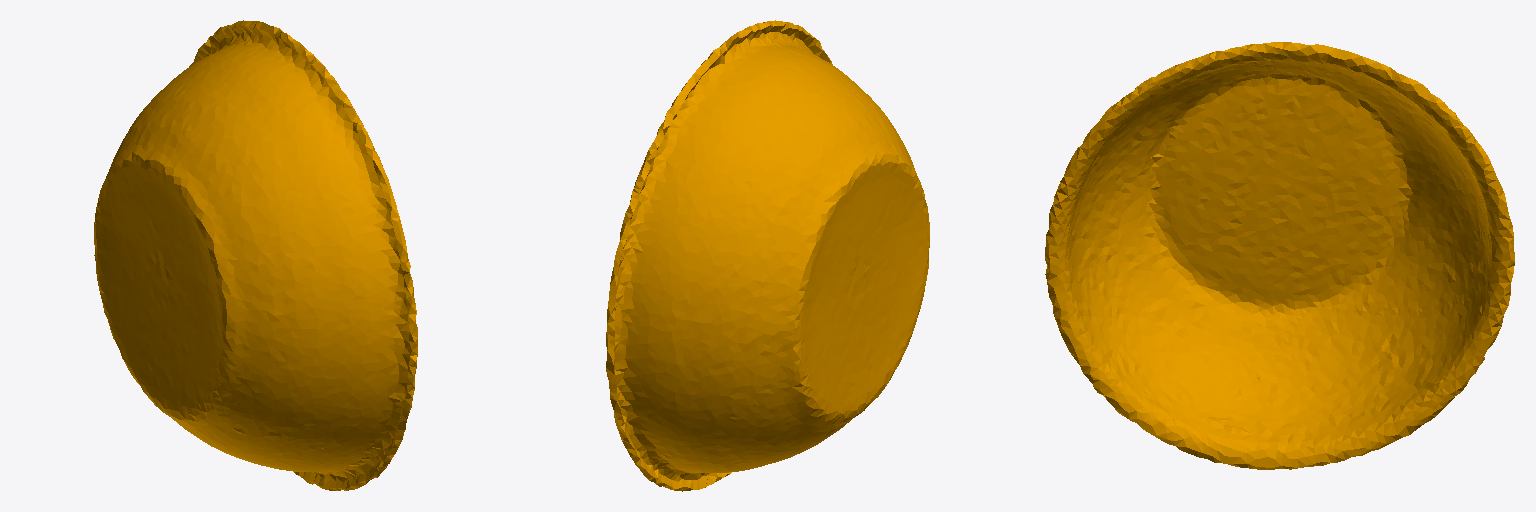
robot.urdf — obj_13:
<?xml version="1.0"?>
<robot name="obj_13">
  <link name="obj_13">
    <visual>
      <origin xyz="0.0 0.0 0.0" rpy="0 0 0"/>
      <geometry>
        <mesh filename="../mesh/ncf_mug_cupholder/obj_assets/13/obj_collision.obj" scale="1 1 1"/>
      </geometry>
    </visual>
    <collision>
      <origin xyz="0.0 0.0 0.0" rpy="0 0 0"/>
      <geometry>
        <mesh filename="../mesh/ncf_mug_cupholder/obj_assets/13/obj_collision.obj" scale="1 1 1"/>
      </geometry>
      <sdf resolution="512"/>
    </collision >    
    <inertial>
      <mass value="0.102"/>
      <inertia ixx="0.0001" ixy="0.0" ixz="0.0" iyy="0.0001" iyz="0.0" izz="0.0001"/>
    </inertial>
  </link>
</robot>

--- What the picture shows (computed from the rendered views, not written in the file) ---
3 views of the same robot in one strip: view 1: azimuth 30°, elevation 25°; view 2: azimuth 150°, elevation 25°; view 3: azimuth 270°, elevation 25° (orthographic).
Model obj_13 with 1 links and 0 joints (none), rooted at obj_13, posed every joint at zero.
Links seen in each view (by area): view 1: obj_13; view 2: obj_13; view 3: obj_13.
Link boxes in pixels (x1,y1,x2,y2): obj_13: (94,20,417,490); obj_13: (606,20,929,491); obj_13: (1045,42,1514,469).
Bounding box of the posed robot: 0.033 × 0.0969 × 0.0967 m (x, y, z).
Meshes: 1 distinct files referenced, 1 mesh visuals loaded (1 OBJ).